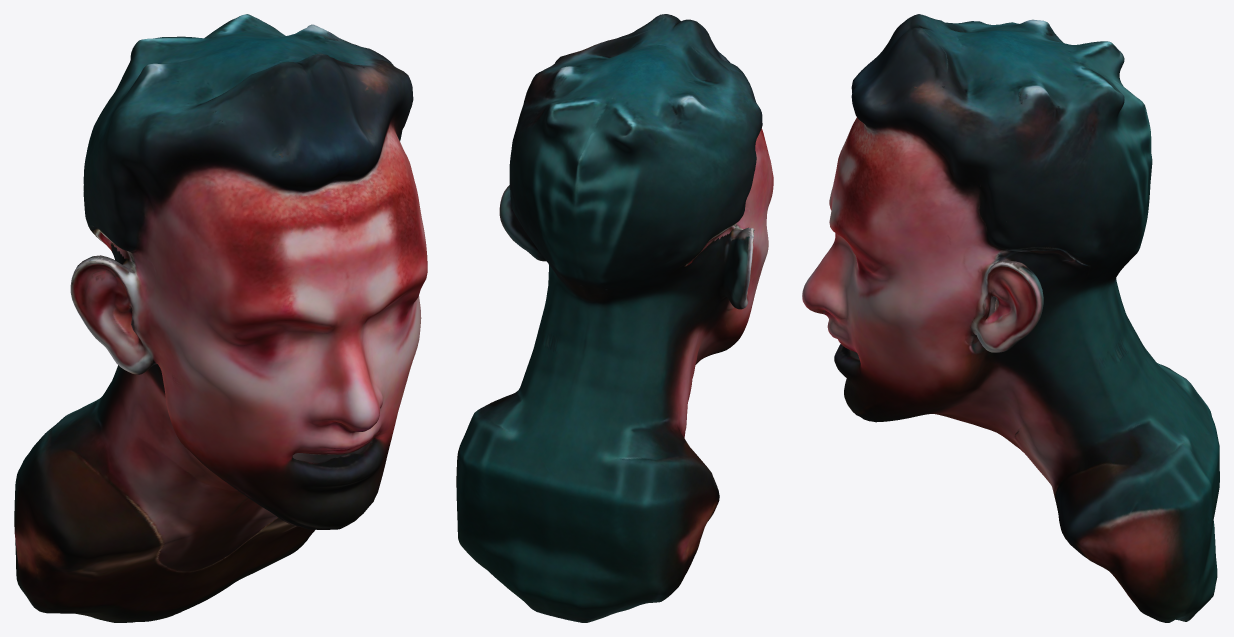
The model's file is Surprised_Expression_1106231822.glb.
The picture shows the model from 3 angles, left to right: view 1: azimuth 30°, elevation 25°; view 2: azimuth 150°, elevation 25°; view 3: azimuth 270°, elevation 25°; orthographic projection. The views are drawn at different scales.
Size of the model in its own units: 1.01 by 1.98 by 1.28.
Materials: 1 (1 with a texture image).
